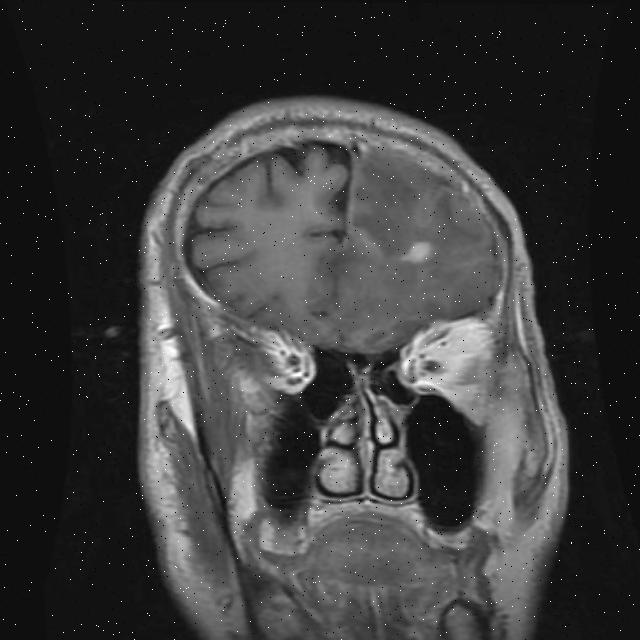Glioma: (403, 242, 432, 262)
